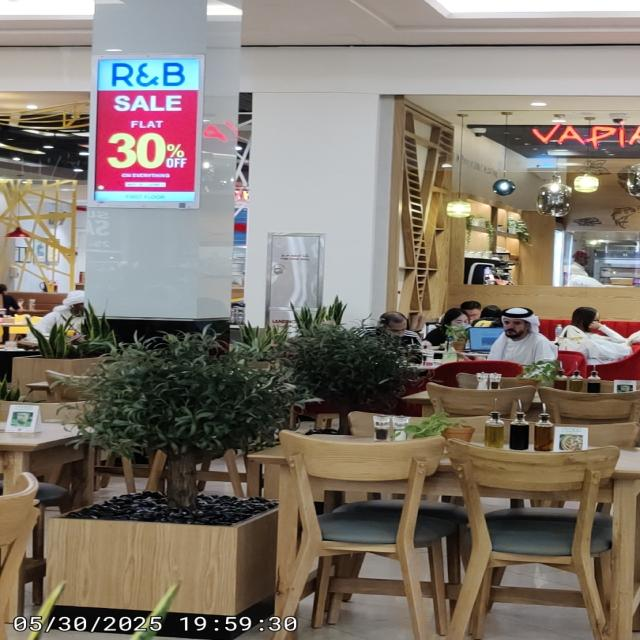digital-board: (90, 51, 207, 205)
